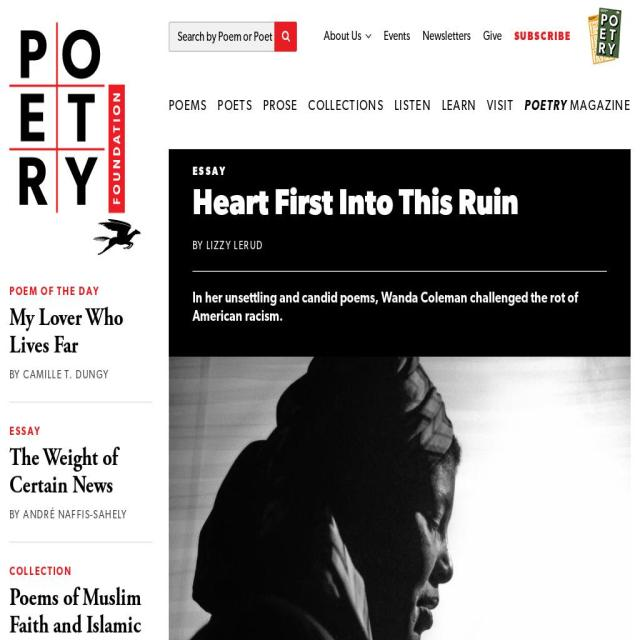button: (168, 356, 630, 640), (323, 27, 371, 46), (274, 20, 298, 52)
field: (168, 20, 298, 52)
heading: (192, 179, 519, 223), (9, 581, 141, 640), (9, 302, 123, 362), (9, 442, 118, 502)
image: (168, 356, 630, 640), (10, 22, 140, 254), (93, 218, 141, 255), (281, 30, 290, 42), (365, 32, 371, 40)
link: (514, 7, 631, 65), (308, 97, 384, 113), (422, 28, 471, 44), (524, 97, 568, 113), (168, 97, 208, 113), (394, 97, 431, 113), (441, 97, 477, 113), (218, 97, 253, 113), (263, 97, 298, 113), (383, 28, 410, 44), (487, 97, 514, 113), (482, 28, 502, 44)
text: (192, 288, 578, 324), (9, 508, 128, 522), (10, 368, 110, 382), (9, 284, 100, 298), (567, 97, 631, 113), (192, 238, 264, 252), (9, 564, 72, 578), (323, 28, 363, 44), (192, 164, 227, 178), (9, 424, 42, 438)
